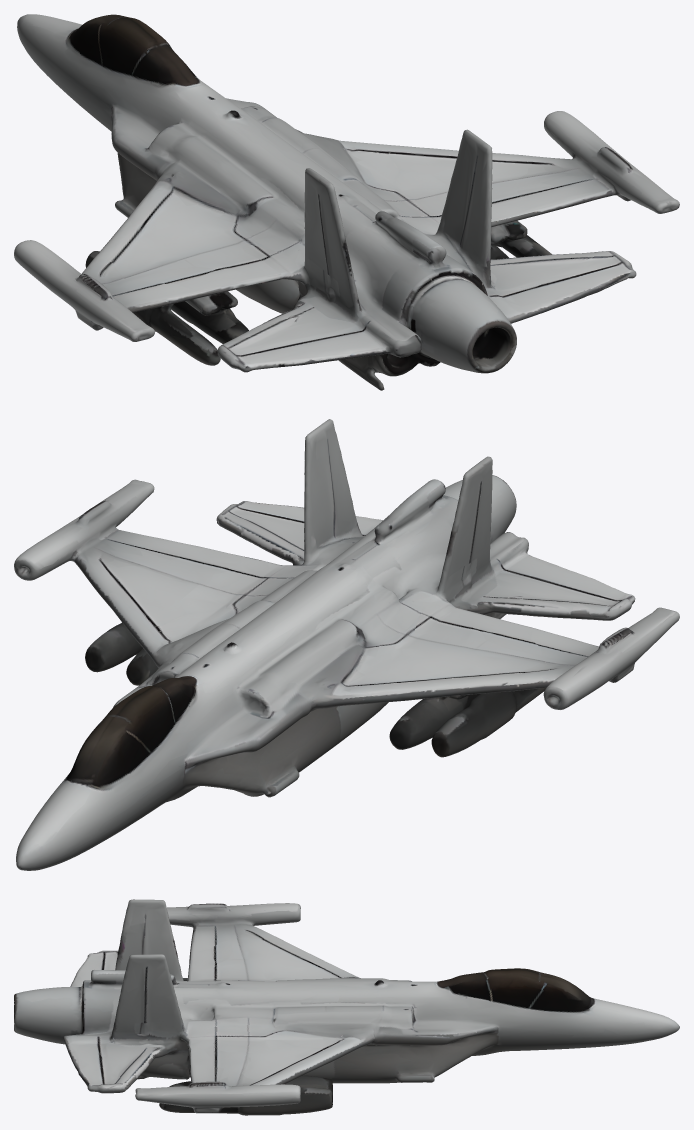
Rendered from battleplane.glb.
3 renders of one model, top to bottom at view 1: azimuth 30°, elevation 25°; view 2: azimuth 150°, elevation 25°; view 3: azimuth 270°, elevation 25°, orthographic. The views are drawn at different scales.
Parts seen in each view (by area): view 1: mesh_uvwarp.002; view 2: mesh_uvwarp.002; view 3: mesh_uvwarp.002.
Part boxes in pixels (left/top/right/bottom): mesh_uvwarp.002: left=14, top=14, right=679, bottom=390; mesh_uvwarp.002: left=14, top=419, right=679, bottom=870; mesh_uvwarp.002: left=14, top=899, right=679, bottom=1115.
Bounding box in the file's own units: 1.35 × 0.4516 × 1.99.
1 material, 1 textured.
